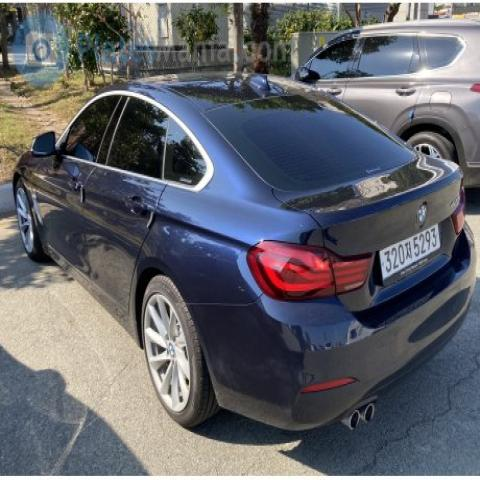LP: (368, 218, 446, 292)
